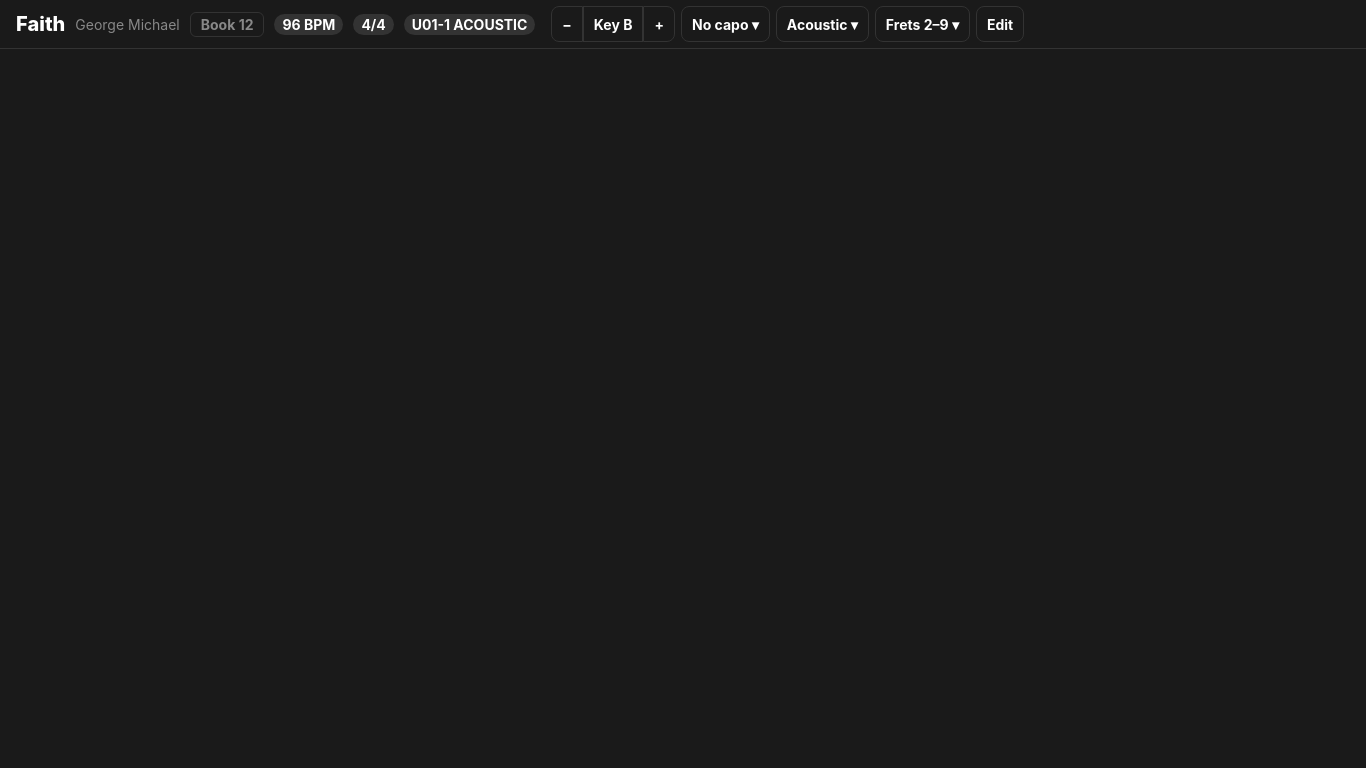
Test: the setup row › picks a capo, marking the easiest one
The width and height of the screenshot is (1366, 768).
Click the button with aria-label "Add a capo": {"x": 725, "y": 24} 681,6 -> 770,42
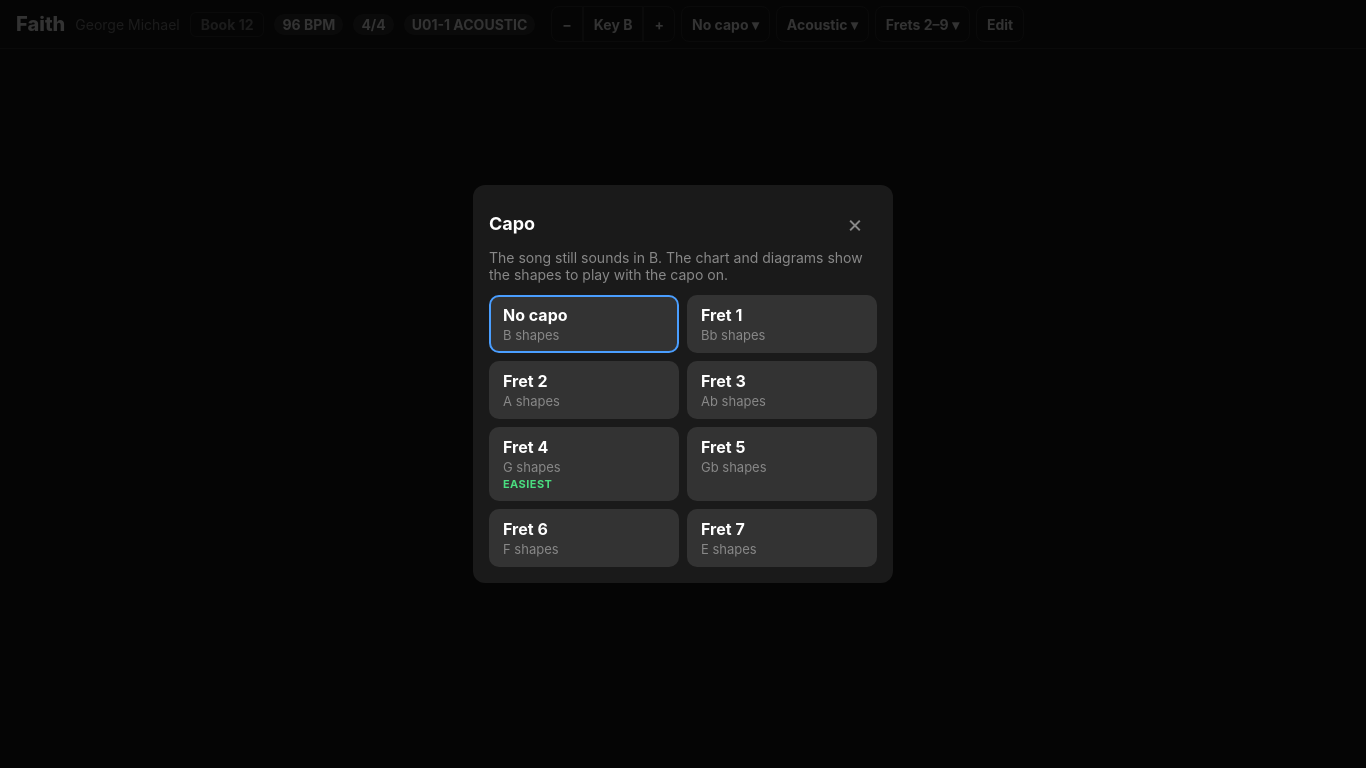
Result: the text "Easiest" is shown at 503,477 -> 552,491
Click the button "Fret 4 G shapes Easiest": {"x": 584, "y": 464} 489,427 -> 679,501
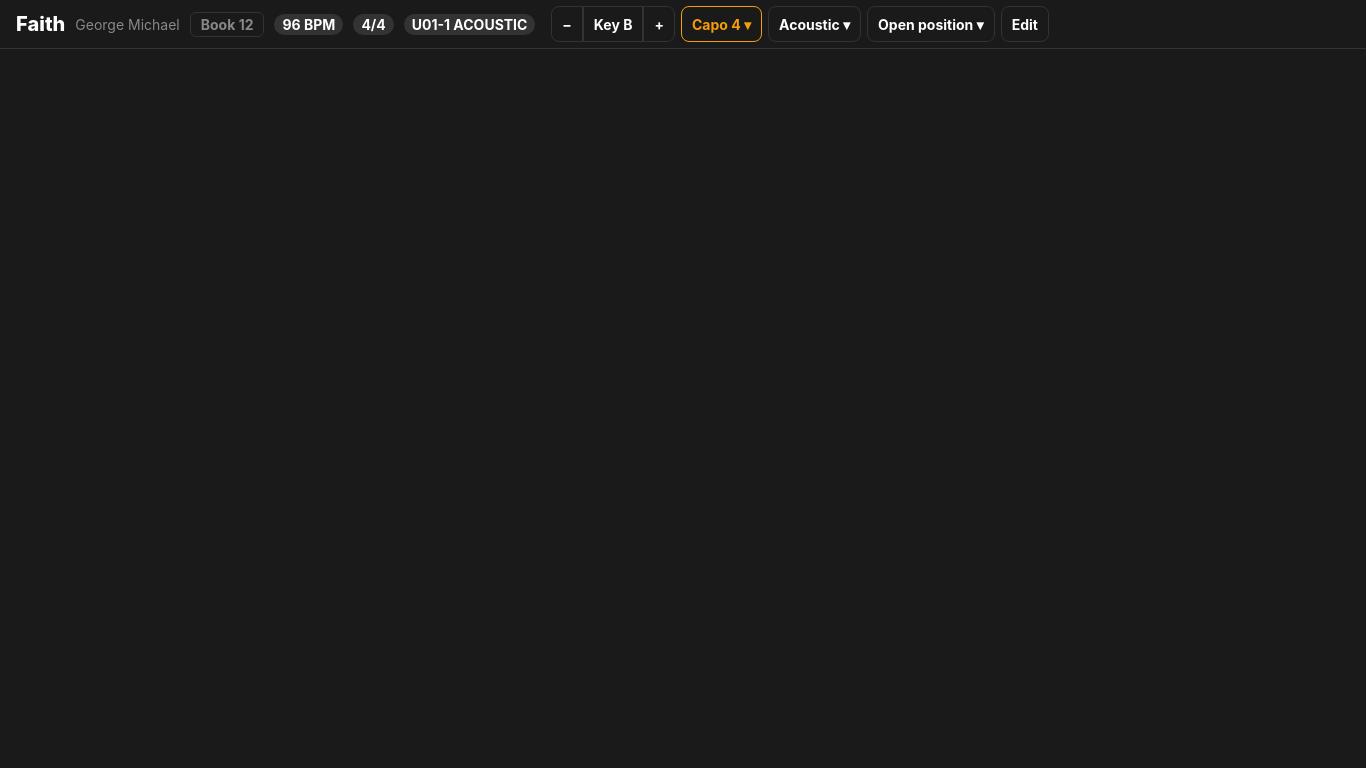
Result: the button with aria-label "Capo on fret 4. Change capo" shows "Capo 4" at 681,6 -> 762,42
